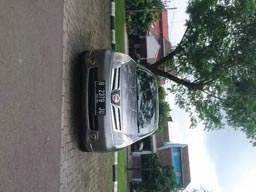plat: (96, 80, 107, 115)
